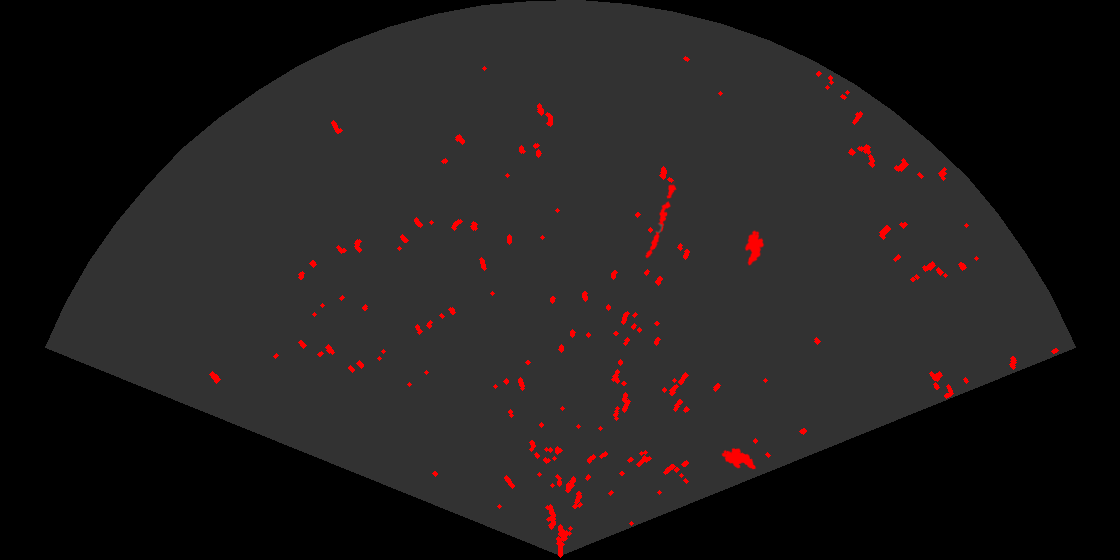AUV: (720, 446, 758, 471), (743, 229, 766, 267)
chain: (644, 181, 678, 260)
